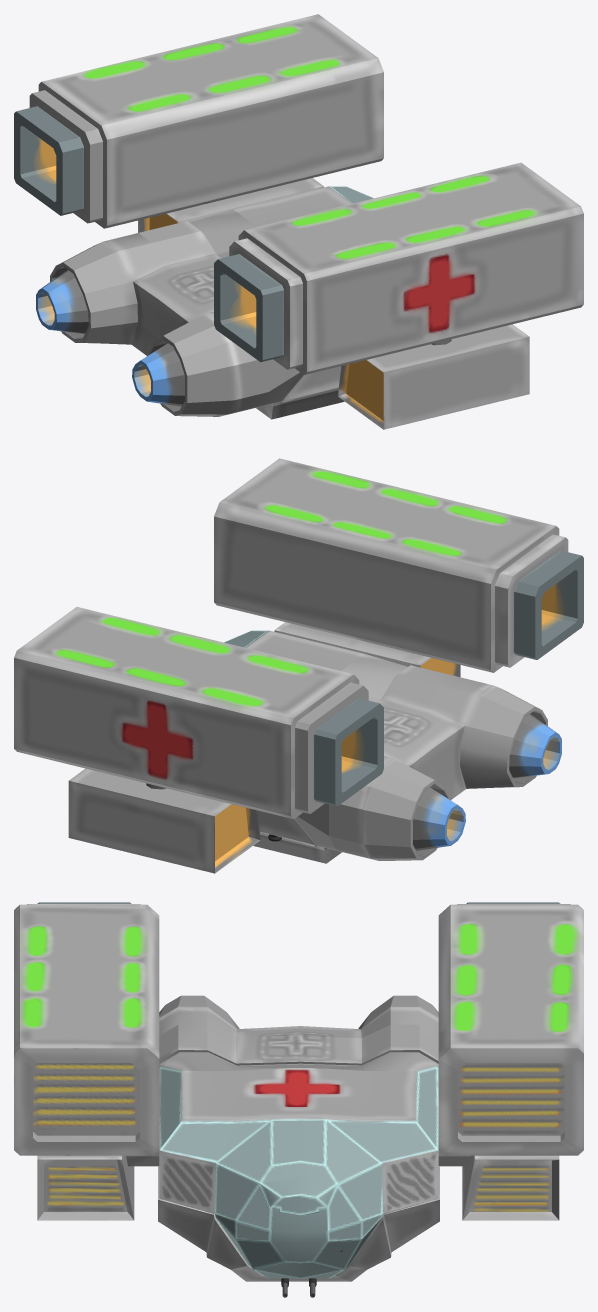
Rendered from AmbulanceCraft.gltf.
3 views of the same model, one above another, from view 1: azimuth 30°, elevation 25°; view 2: azimuth 150°, elevation 25°; view 3: azimuth 270°, elevation 25° (orthographic). The views are drawn at different scales.
Parts seen in each view (by area): view 1: Cylinder085; view 2: Cylinder085; view 3: Cylinder085.
Boxes of the visible parts, left/top/right/bottom form: Cylinder085: left=14, top=14, right=583, bottom=429; Cylinder085: left=14, top=458, right=583, bottom=873; Cylinder085: left=14, top=902, right=583, bottom=1297.
Bounding box in the file's own units: 220 × 135 × 271.
Materials: 1 (1 with a texture image).
